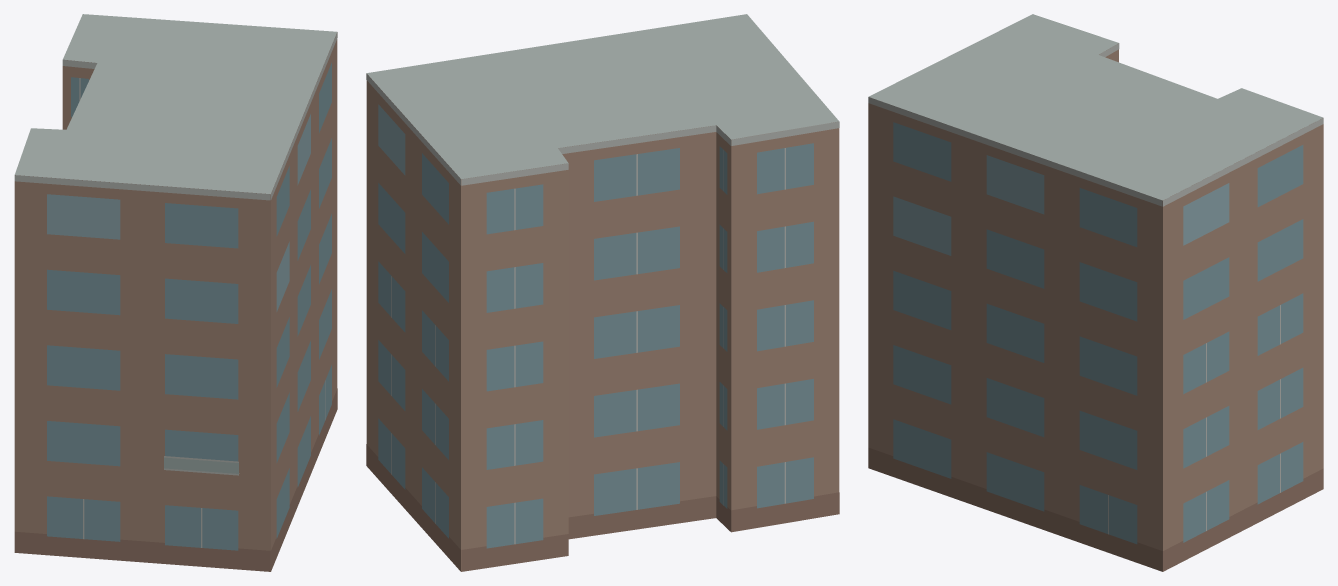
Rendered from survey-upis-32963707.glb.
The picture shows the model from 3 angles, left to right: view 1: azimuth 30°, elevation 25°; view 2: azimuth 150°, elevation 25°; view 3: azimuth 270°, elevation 25°; orthographic projection. The views are drawn at different scales.
Visible parts, largest first — view 1: survey-upis-32963707.tmp; view 2: survey-upis-32963707.tmp; view 3: survey-upis-32963707.tmp.
Part boxes in pixels (left/top/right/bottom): survey-upis-32963707.tmp: left=14, top=14, right=337, bottom=571; survey-upis-32963707.tmp: left=366, top=14, right=839, bottom=571; survey-upis-32963707.tmp: left=868, top=14, right=1323, bottom=571.
Size of the model in its own units: 15.63 by 14.5 by 16.12.
